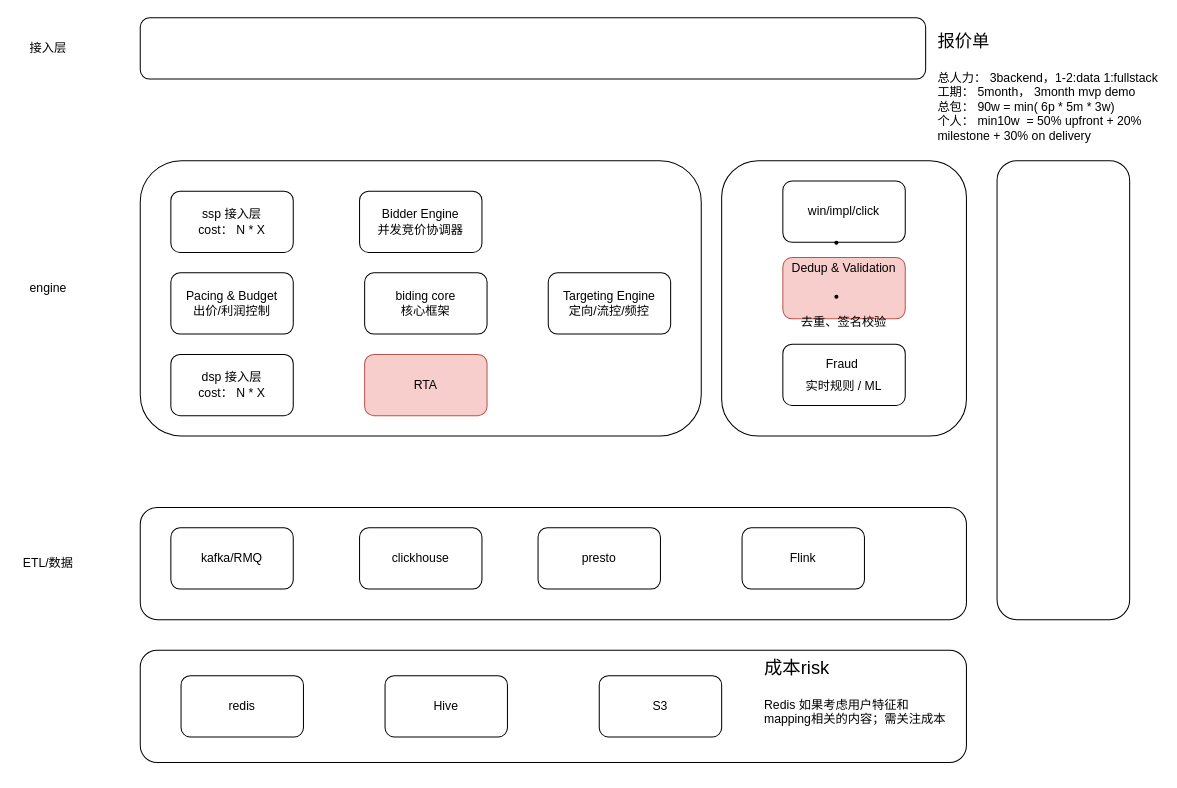
The diagram is 1177 pixels wide and 788 high, and some of its shapes have lost their labels. The centre of each missing label's shape, as x and y in pixels:
"Metric Tracking Logging" belongs at point (1063, 390).
"TLB/Nginx" belongs at point (532, 48).
